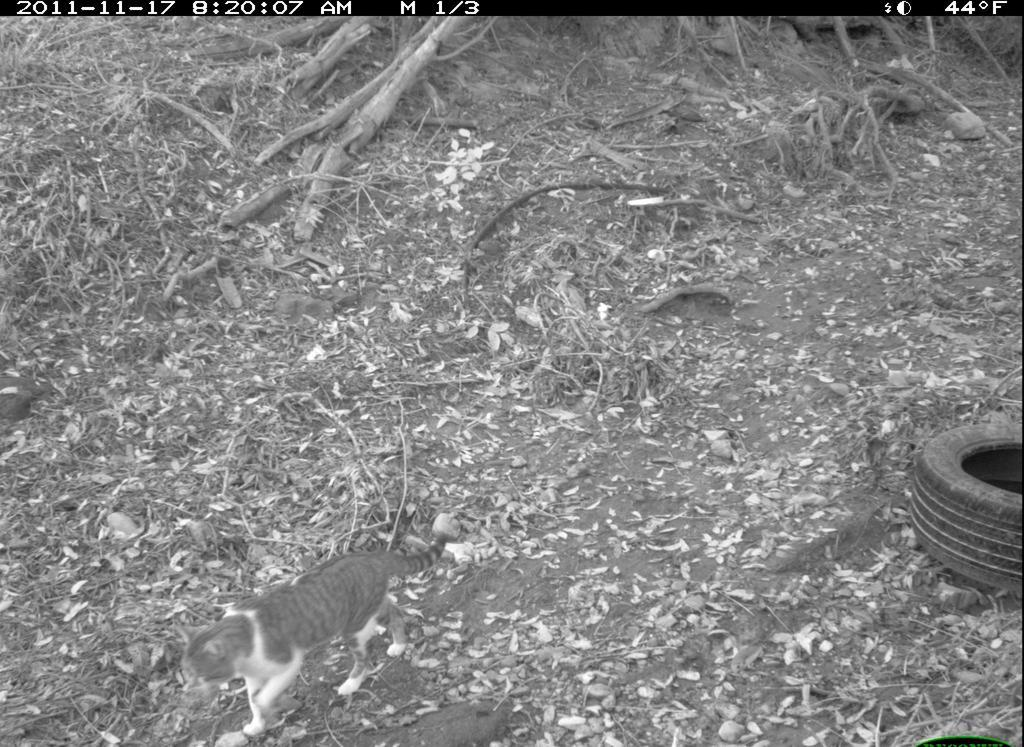cat: (185, 518, 451, 743)
